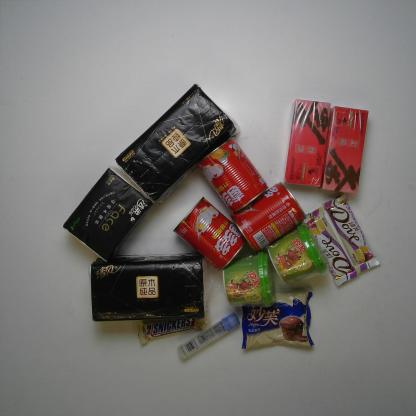Canned Food: (194, 136, 270, 216), (172, 195, 249, 272), (229, 181, 306, 254)
Chocolate: (322, 193, 380, 275), (301, 205, 358, 288), (135, 307, 212, 346)
Dessert: (239, 287, 316, 352)
Instant Drink: (283, 98, 332, 189), (321, 104, 369, 196), (266, 223, 326, 287), (221, 250, 276, 310)
Stationery: (177, 313, 238, 361)
Tissue: (116, 83, 239, 206), (60, 165, 155, 264), (88, 253, 206, 322)
